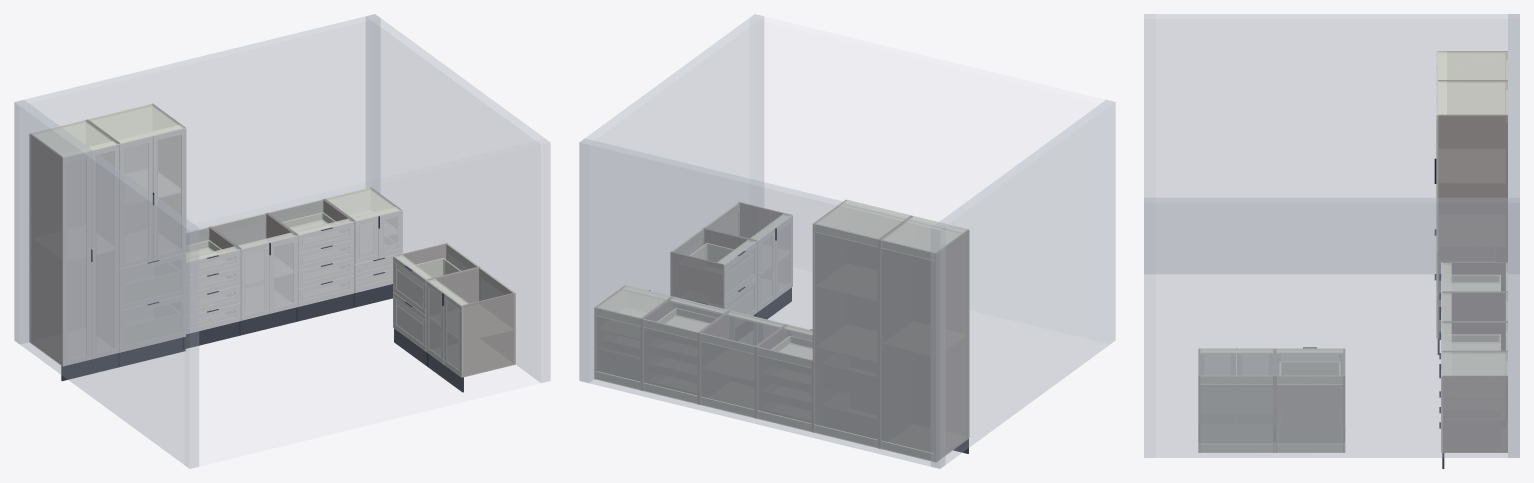
Rendered from GlbTest1.glb.
The picture shows the model from 3 angles, left to right: view 1: azimuth 30°, elevation 25°; view 2: azimuth 150°, elevation 25°; view 3: azimuth 270°, elevation 25°; orthographic projection. The views are drawn at different scales.
Parts seen in each view (by area): view 1: Mesh (×3), Door_1 (×3), Door_2 (×3), Left (×3), Kick_Plate (×7), Drawer_2 (×4), Drawer_1 (×4), Upper_Door_1 (×2), Top_Solid_Cap (×3), Upper_Door_2 (×2), Right (×2), Backplane (×3) (+8 smaller); view 2: Mesh (×3), Backplane (×7), Left (×3), Right (×7), Top_Solid_Cap (×3), Door_2 (×2), Door_1, Drawer_2, Drawer_1, UpperBack, BottomBack; view 3: Mesh (×3), Right (×3), Backplane (×2), Top_Solid_Cap (×3), Left (×3), Drawer_2, UpperBack (×2), BottomBack (×2), TopFront (×2), Draw_Base_3 (×2), Door_1, Door_2 (+2 smaller).
Boxes of the visible parts, x1,y1,x2,y2 form: Mesh (×3): [14, 14, 550, 468]; Door_1 (×3): [62, 151, 444, 365]; Door_2 (×3): [92, 144, 463, 377]; Left (×3): [29, 133, 480, 365]; Kick_Plate (×7): [61, 284, 463, 392]; Drawer_2 (×4): [120, 254, 426, 314]; Drawer_1 (×4): [120, 276, 425, 351]; Upper_Door_1 (×2): [119, 136, 378, 267]; Top_Solid_Cap (×3): [32, 104, 399, 220]; Upper_Door_2 (×2): [153, 128, 401, 259]; Right (×2): [426, 266, 515, 377]; Backplane (×3): [212, 200, 513, 363]; Mesh (×3): [579, 14, 1115, 468]; Backplane (×7): [596, 203, 934, 452]; Left (×3): [670, 215, 968, 462]; Right (×7): [641, 200, 912, 448]; Top_Solid_Cap (×3): [597, 200, 965, 317]; Door_2 (×2): [729, 215, 792, 345]; Door_1: [757, 228, 774, 310]; Drawer_2: [723, 241, 756, 300]; Drawer_1: [723, 278, 756, 314]; UpperBack: [814, 223, 877, 247]; BottomBack: [814, 424, 877, 447]; Mesh (×3): [1144, 14, 1519, 457]; Right (×3): [1437, 114, 1507, 452]; Backplane (×2): [1200, 375, 1343, 451]; Top_Solid_Cap (×3): [1437, 51, 1505, 375]; Left (×3): [1442, 262, 1507, 350]; Drawer_2: [1275, 349, 1344, 386]; UpperBack (×2): [1200, 375, 1343, 384]; BottomBack (×2): [1200, 443, 1343, 452]; TopFront (×2): [1200, 348, 1343, 354]; Draw_Base_3 (×2): [1451, 282, 1499, 350]; Door_1: [1236, 348, 1273, 375]; Door_2: [1199, 348, 1236, 375].
Bounding box in the file's own units: 3.8 × 2.55 × 3.2.
